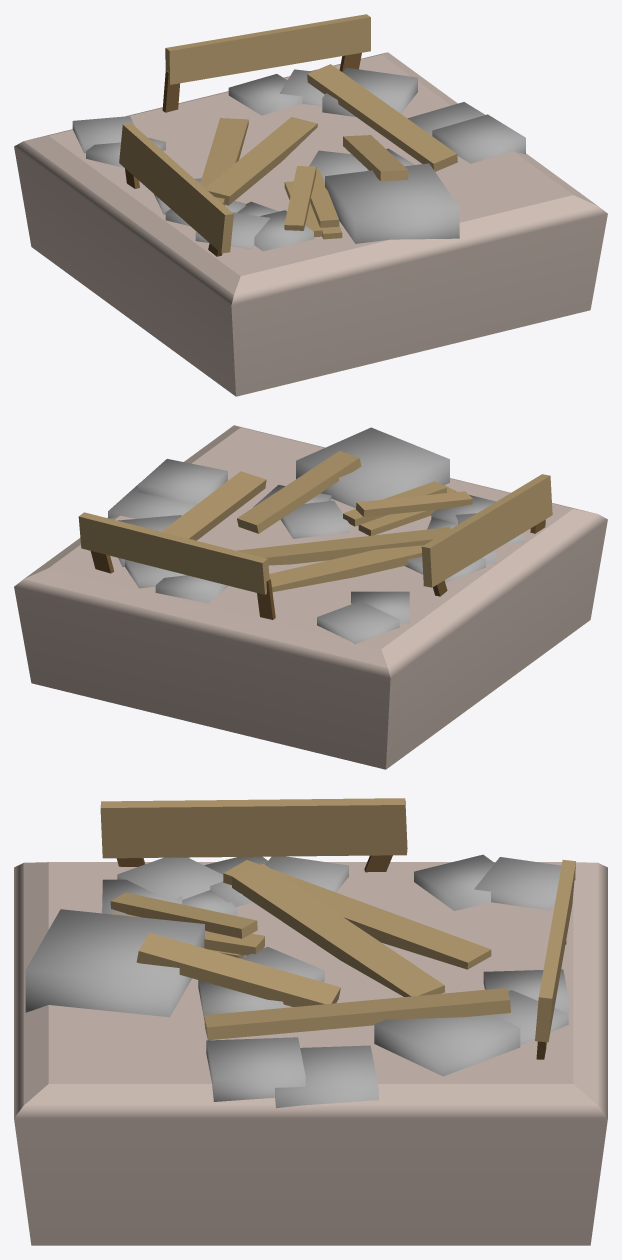
Rendered from ConstructionSite1.fbx.
3 renders of one model, top to bottom at view 1: azimuth 30°, elevation 25°; view 2: azimuth 150°, elevation 25°; view 3: azimuth 270°, elevation 25°, orthographic. The views are drawn at different scales.
Visible parts, largest first — view 1: ConstructionSite1; view 2: ConstructionSite1; view 3: ConstructionSite1.
Boxes of the visible parts, x1,y1,x2,y2 form: ConstructionSite1: (14, 14, 607, 396); ConstructionSite1: (14, 425, 607, 769); ConstructionSite1: (14, 798, 607, 1245).
Bounding box in the file's own units: 4 × 1.75 × 4.
